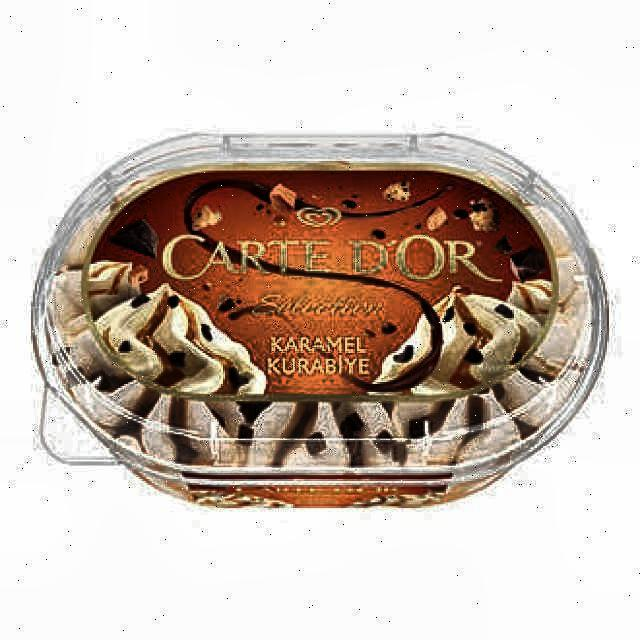plastic: (29, 129, 610, 512)
